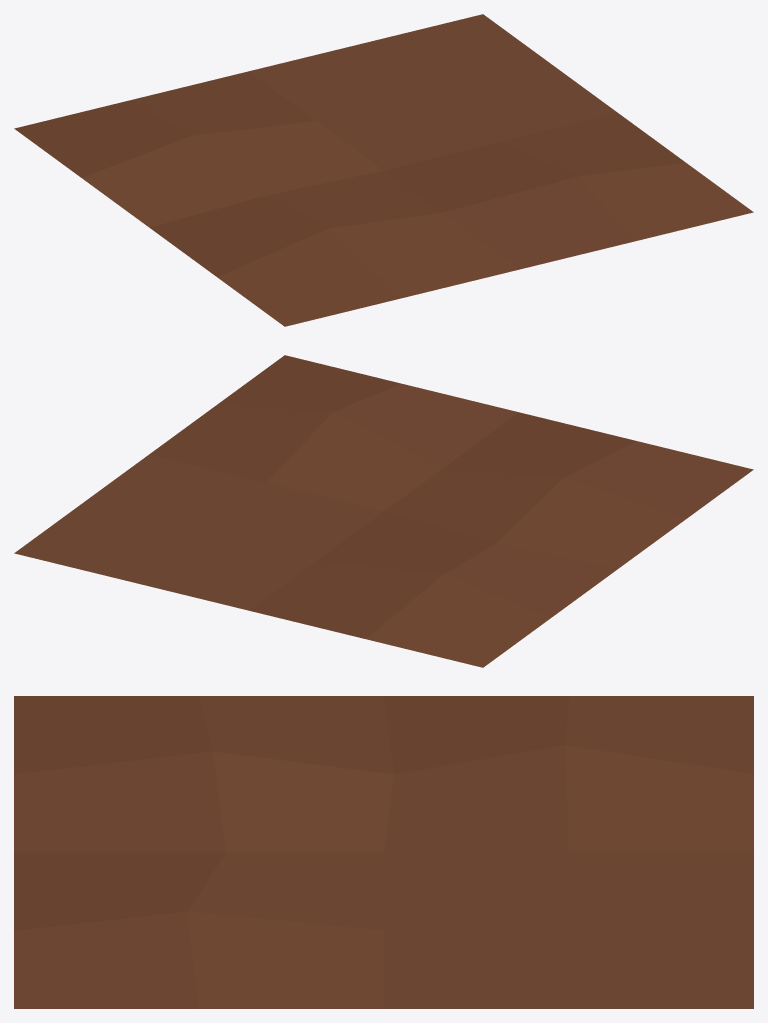
The model's file is SM_dirt_ground_02.fbx.
3 views of the same model, one above another, from view 1: azimuth 30°, elevation 25°; view 2: azimuth 150°, elevation 25°; view 3: azimuth 270°, elevation 25° (orthographic). The views are drawn at different scales.
Parts seen in each view (by area): view 1: dirt_ground_02; view 2: dirt_ground_02; view 3: dirt_ground_02.
Part boxes in pixels (left/top/right/bottom): dirt_ground_02: left=14, top=14, right=753, bottom=326; dirt_ground_02: left=14, top=355, right=753, bottom=667; dirt_ground_02: left=14, top=696, right=753, bottom=1008.
Size of the model in its own units: 300 by 10.18 by 300.
